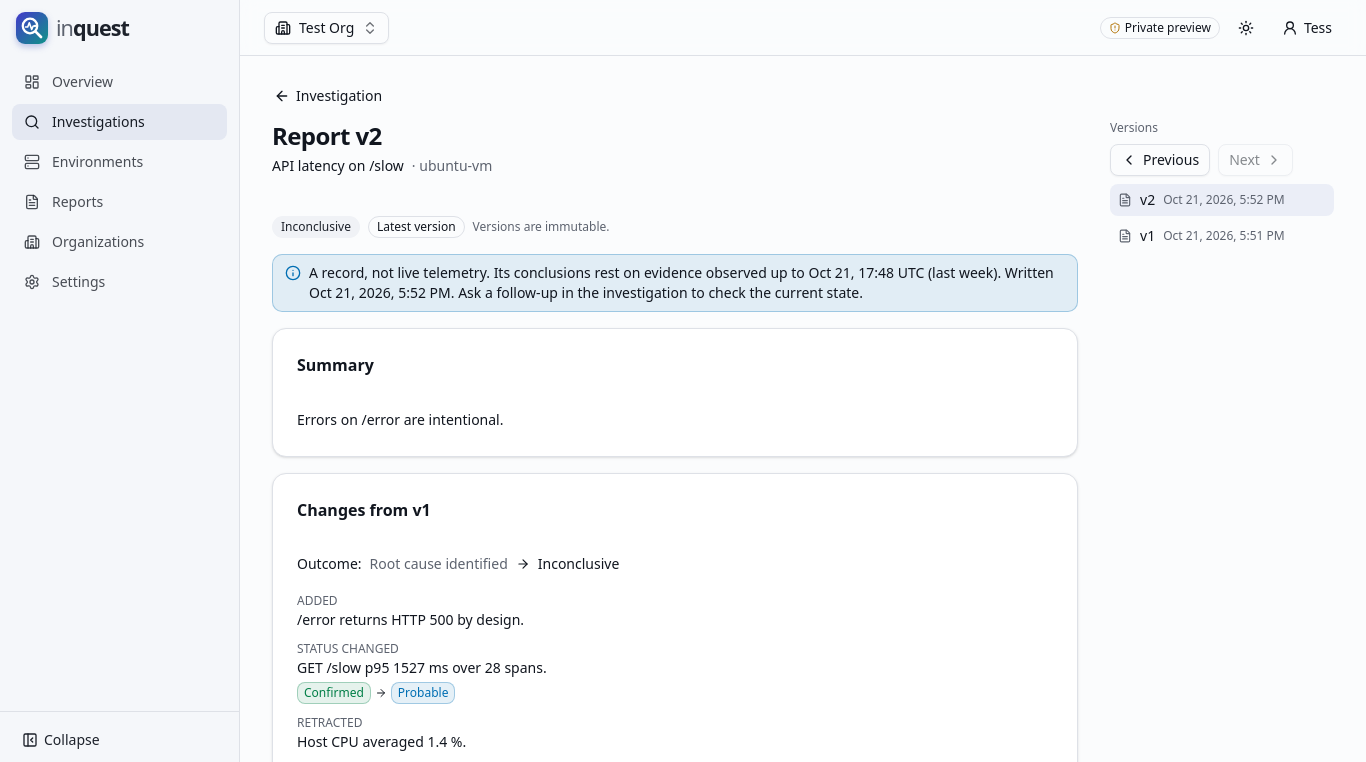
Test case: report view › navigates between versions
Expected: the heading "Report v2" is shown, [272,119,382,152]
Click the link with aria-label "Previous version": (1160, 160) [1110,144,1210,176]
(page scrolled)
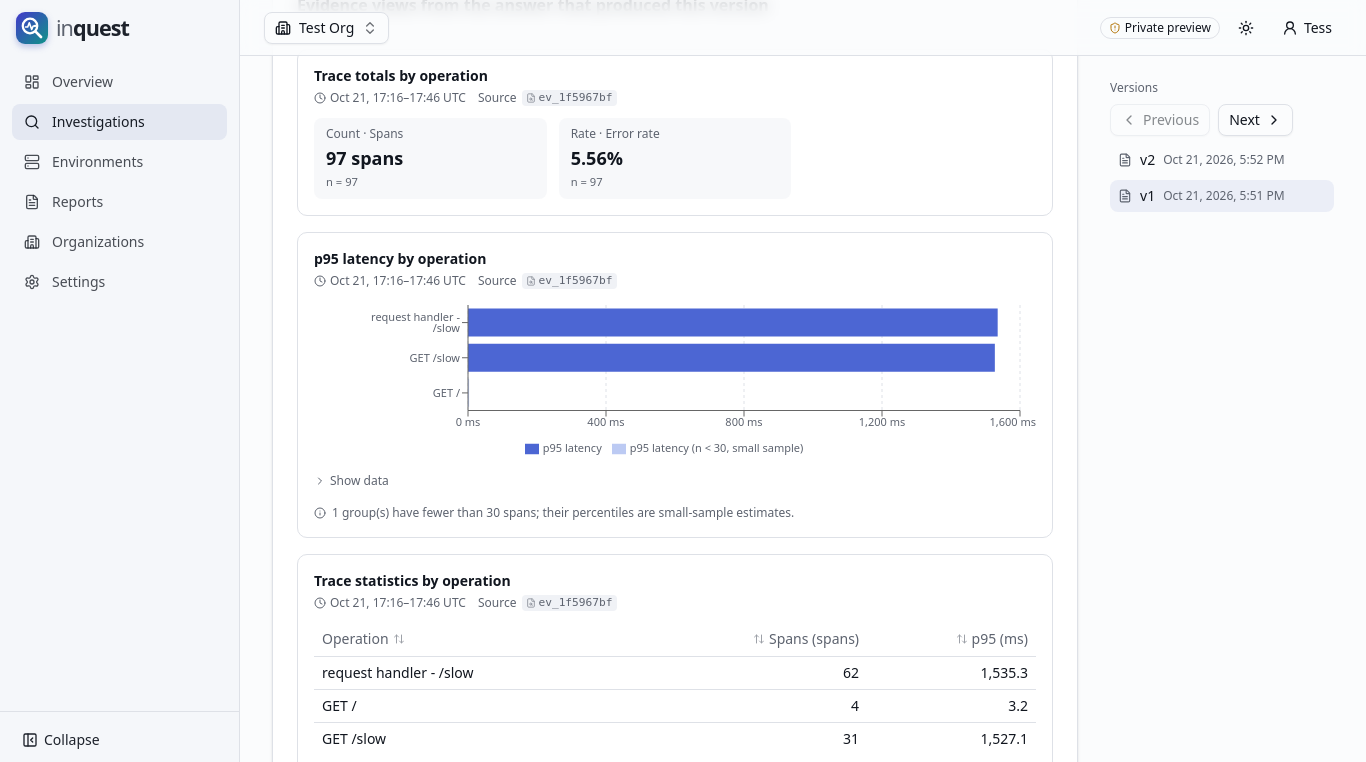
Expected: the element "p95 latency by operation" is shown, [297,232,1053,538]
